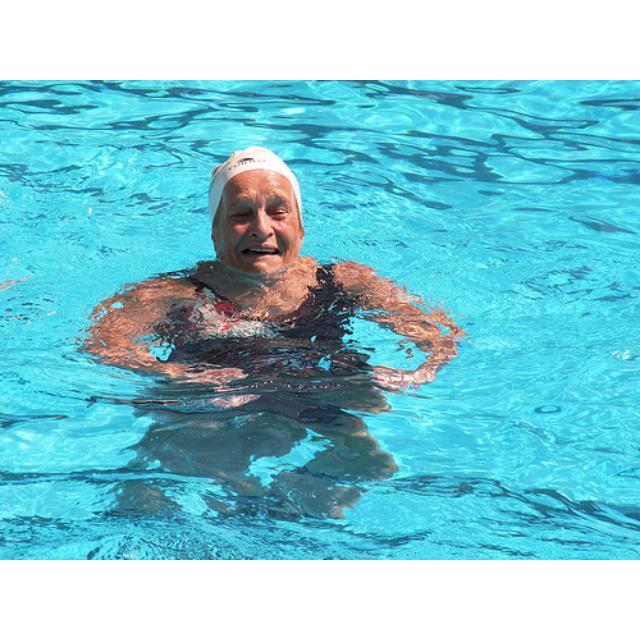human: (89, 145, 466, 389)
